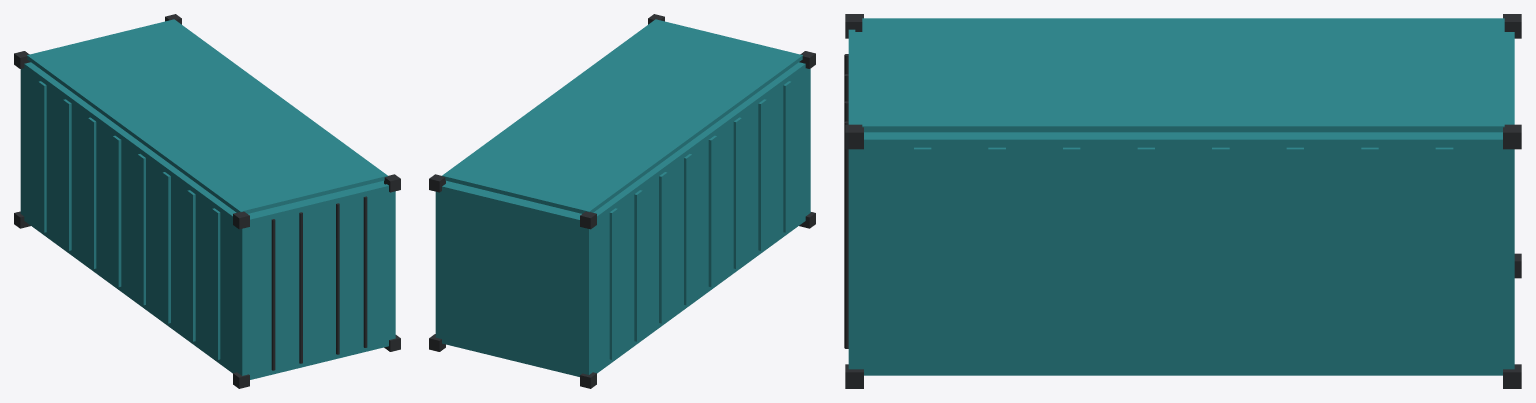
The model's file is container_20ft.glb.
3 renders of one model, left to right at view 1: azimuth 30°, elevation 25°; view 2: azimuth 150°, elevation 25°; view 3: azimuth 270°, elevation 25°, orthographic. The views are drawn at different scales.
Visible parts, largest first — view 1: Paint (×11), Container20ft; view 2: Paint (×10), Container20ft; view 3: Paint (×11), Container20ft.
Boxes of the visible parts, <box> form: Paint (×11): <box>20,19,395,379</box>; Container20ft: <box>14,14,400,388</box>; Paint (×10): <box>435,19,809,376</box>; Container20ft: <box>429,14,815,388</box>; Paint (×11): <box>848,18,1514,375</box>; Container20ft: <box>844,14,1521,388</box>.
Size of the model in its own units: 2.57 by 2.6 by 6.2.
